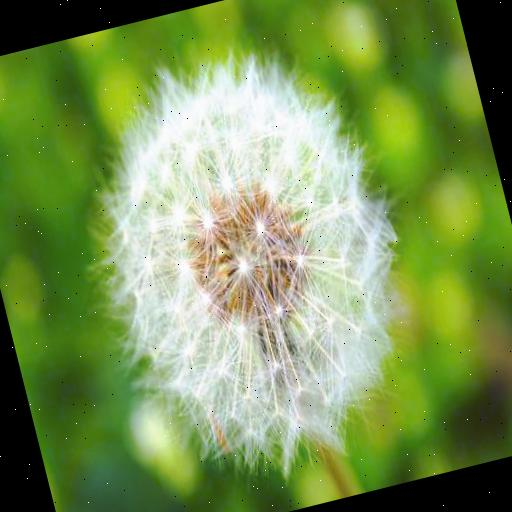dandelion: (55, 26, 454, 506)
